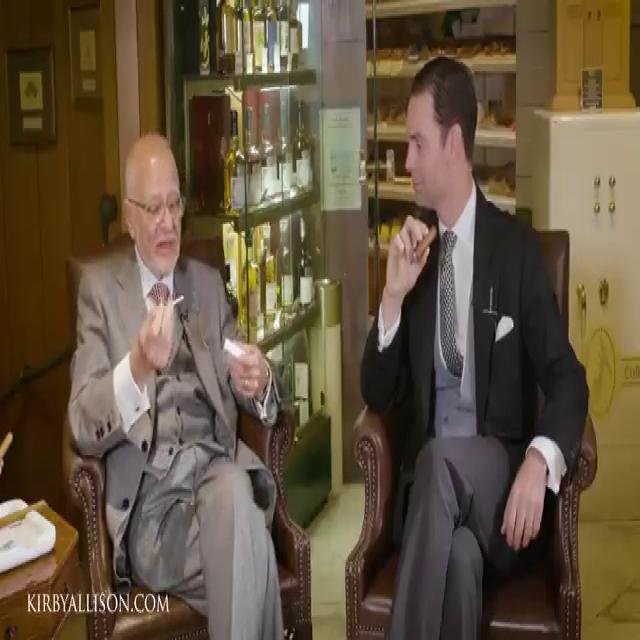Smooking: (405, 217, 438, 270)
